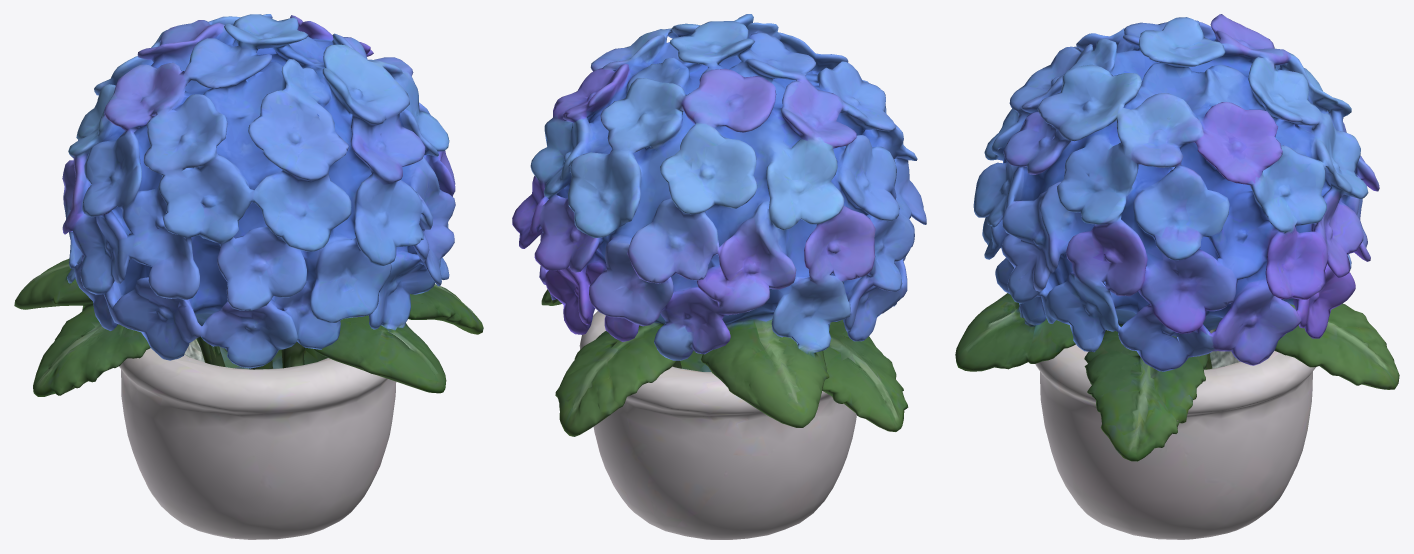
File: keepsake-blue-hydrangea.glb
The picture shows the model from 3 angles, left to right: view 1: azimuth 30°, elevation 25°; view 2: azimuth 150°, elevation 25°; view 3: azimuth 270°, elevation 25°; orthographic projection.
Visible parts, largest first — view 1: tripo_node_70f20ad5-6f34-4bd4-b232-4e6c93cff803; view 2: tripo_node_70f20ad5-6f34-4bd4-b232-4e6c93cff803; view 3: tripo_node_70f20ad5-6f34-4bd4-b232-4e6c93cff803.
Part boxes in pixels (x1,y1,x2,y2): tripo_node_70f20ad5-6f34-4bd4-b232-4e6c93cff803: [14, 14, 483, 539]; tripo_node_70f20ad5-6f34-4bd4-b232-4e6c93cff803: [512, 14, 926, 539]; tripo_node_70f20ad5-6f34-4bd4-b232-4e6c93cff803: [955, 14, 1399, 539].
Size of the model in its own units: 0.854 by 0.9763 by 0.8264.
1 material, 1 textured.
